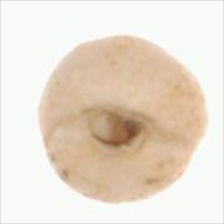L3: (77, 103, 150, 150)
L4: (39, 35, 208, 205)
